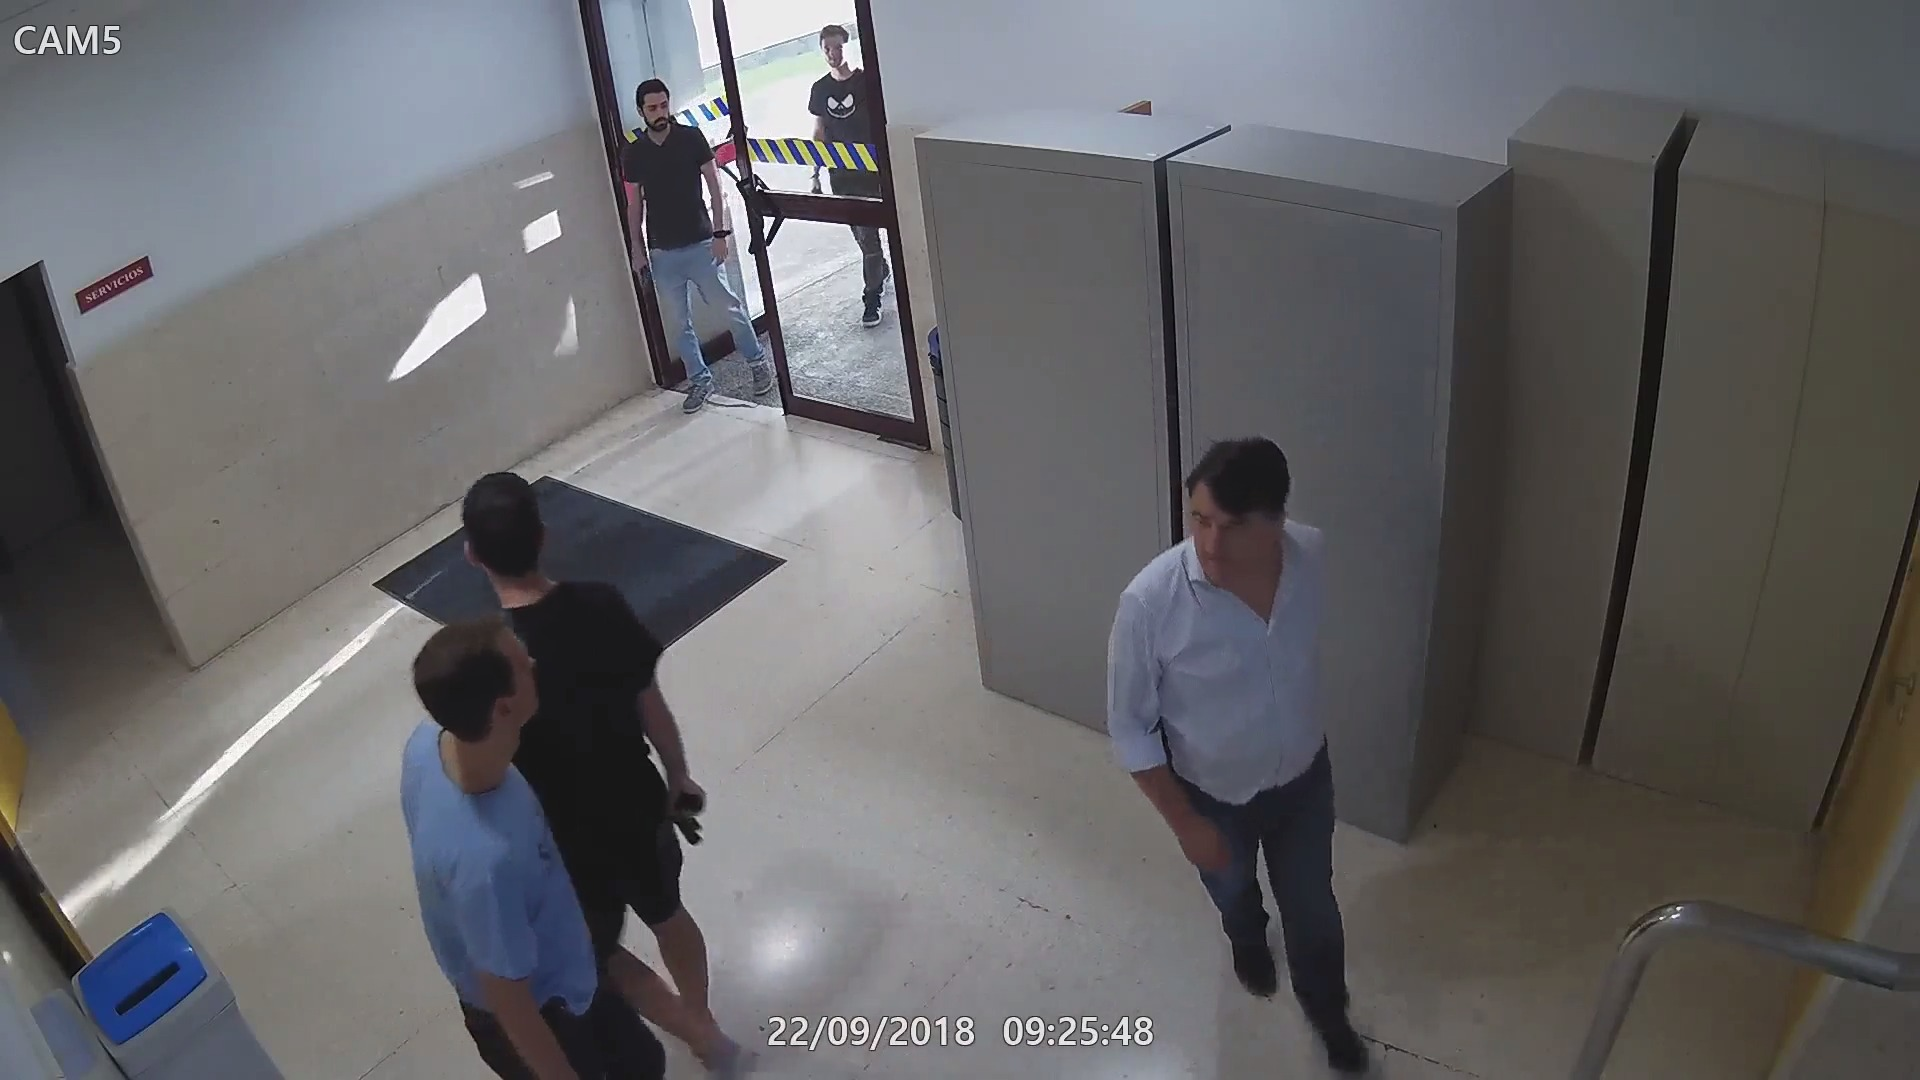Handgun: (661, 783, 711, 851), (628, 243, 654, 305), (803, 174, 829, 200)
